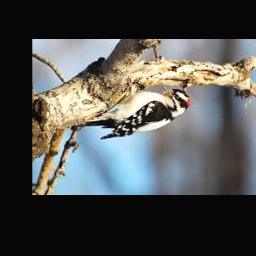Woodpecker: (78, 84, 190, 140)
